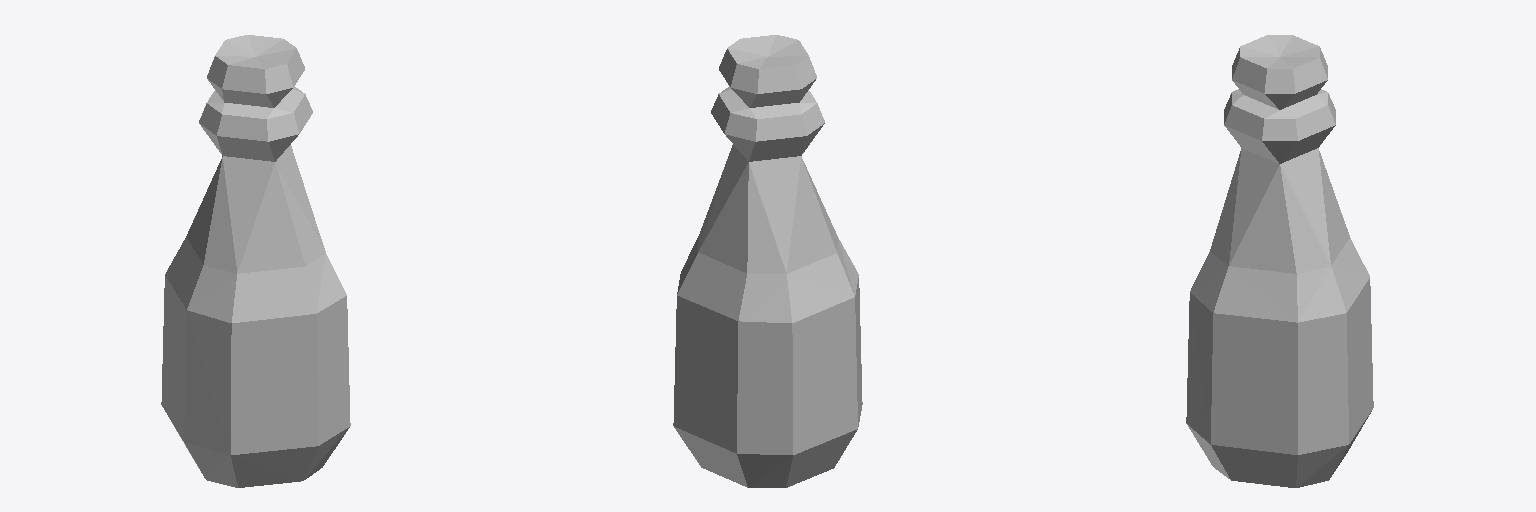
File: bottle_A_labeled_brown.gltf.obj
The picture shows the model from 3 angles: view 1: azimuth 30°, elevation 25°; view 2: azimuth 150°, elevation 25°; view 3: azimuth 270°, elevation 25°; orthographic projection.
Size of the model in its own units: 0.3684 by 0.8857 by 0.3684.